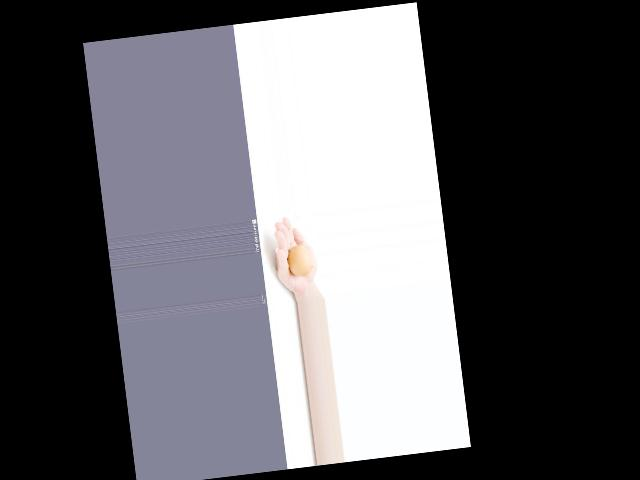egg: (286, 244, 314, 278)
